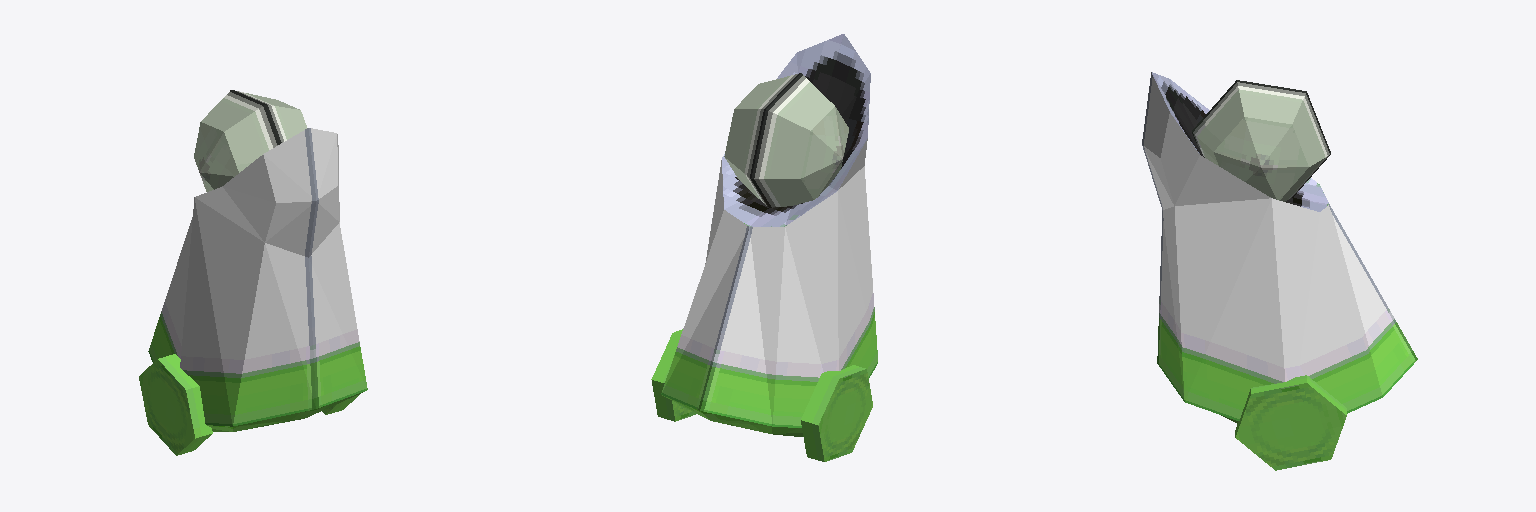
The picture shows the model from 3 angles: view 1: azimuth 30°, elevation 25°; view 2: azimuth 150°, elevation 25°; view 3: azimuth 270°, elevation 25°; orthographic projection.
Parts seen in each view (by area): view 1: buzzlightyLeftCalf_buzzlighty.002; view 2: buzzlightyLeftCalf_buzzlighty.002; view 3: buzzlightyLeftCalf_buzzlighty.002.
Boxes of the visible parts, <box> form: buzzlightyLeftCalf_buzzlighty.002: <box>139,90,367,455</box>; buzzlightyLeftCalf_buzzlighty.002: <box>651,34,877,461</box>; buzzlightyLeftCalf_buzzlighty.002: <box>1142,72,1417,470</box>.
Size of the model in its own units: 0.1133 by 0.2274 by 0.1597.
Materials: 1 (1 with a texture image).